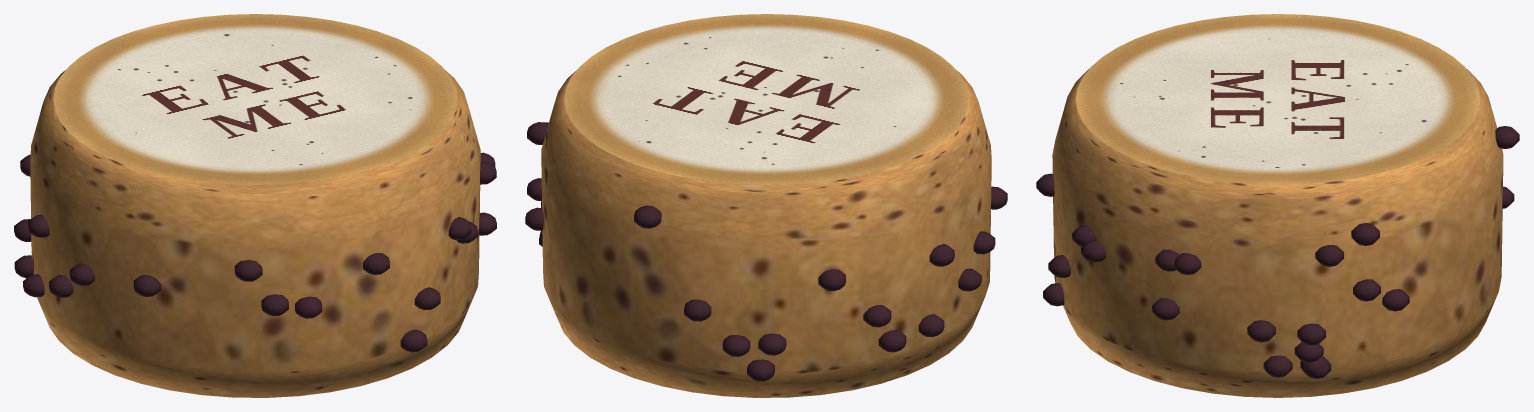
The model's file is prop_cake_eatme.glb.
The picture shows the model from 3 angles, left to right: view 1: azimuth 30°, elevation 25°; view 2: azimuth 150°, elevation 25°; view 3: azimuth 270°, elevation 25°; orthographic projection.
Visible parts, largest first — view 1: prop_cake_eatme, Cake_Currants; view 2: prop_cake_eatme, Cake_Currants; view 3: prop_cake_eatme, Cake_Currants.
Boxes of the visible parts, <box> form: prop_cake_eatme: <box>30,14,480,397</box>; Cake_Currants: <box>14,152,496,352</box>; prop_cake_eatme: <box>541,14,991,397</box>; Cake_Currants: <box>525,122,1007,381</box>; prop_cake_eatme: <box>1052,14,1503,397</box>; Cake_Currants: <box>1036,126,1519,378</box>.
Bounding box in the file's own units: 0.054 × 0.0258 × 0.054.
Materials: 3 (2 with a texture image).
